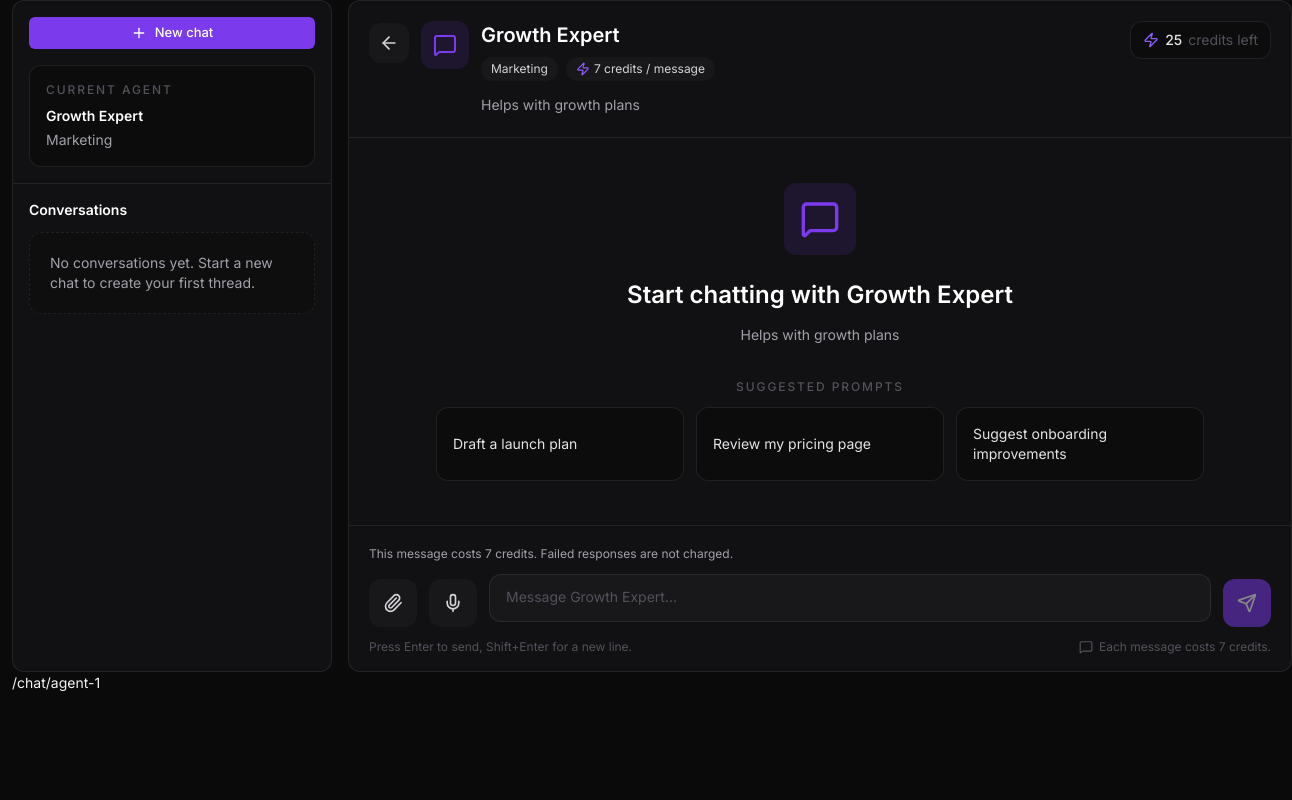
Test: ChatPage › distinguishes a billing inactive 402 from insufficient credits and preserves the draft
The width and height of the screenshot is (1292, 800).
Type "Help me plan a launch" into the text box. click: (850, 598)
box: [489,574,1211,622]
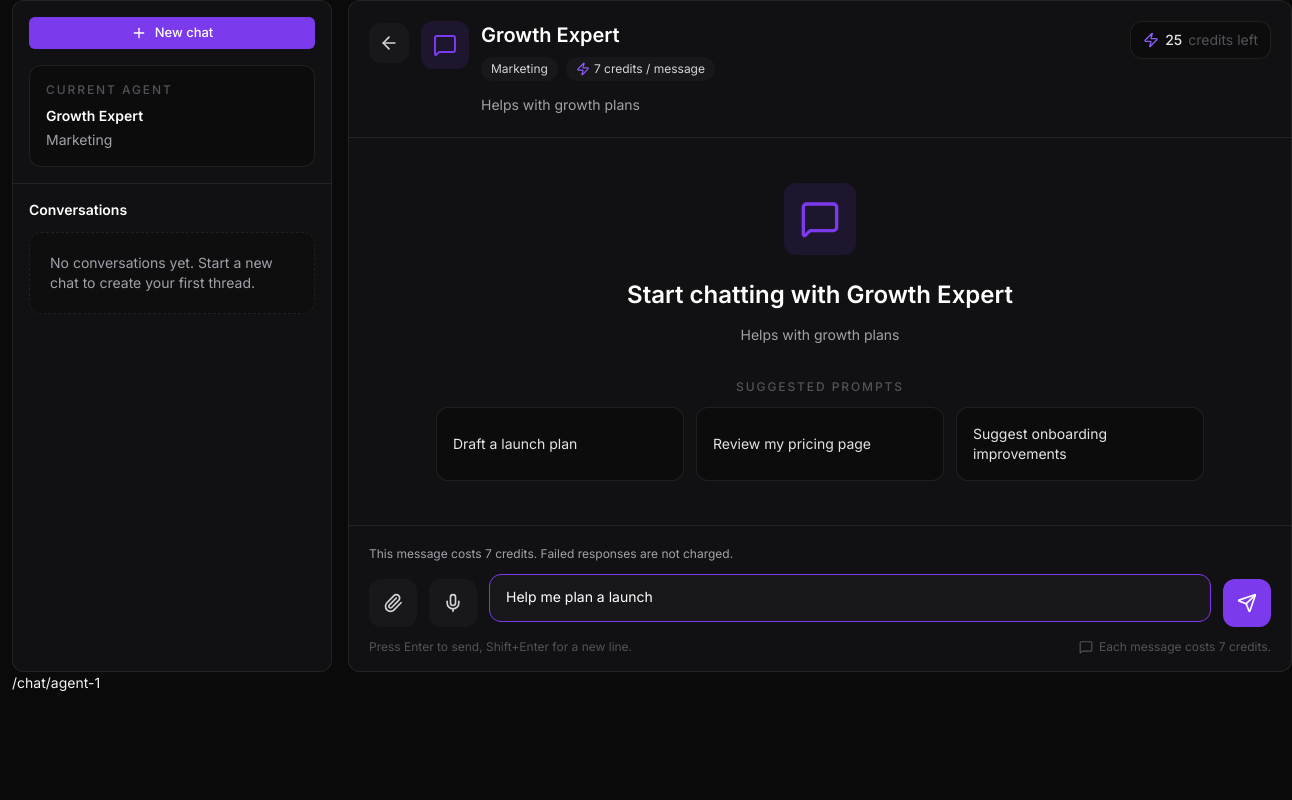
Press Enter
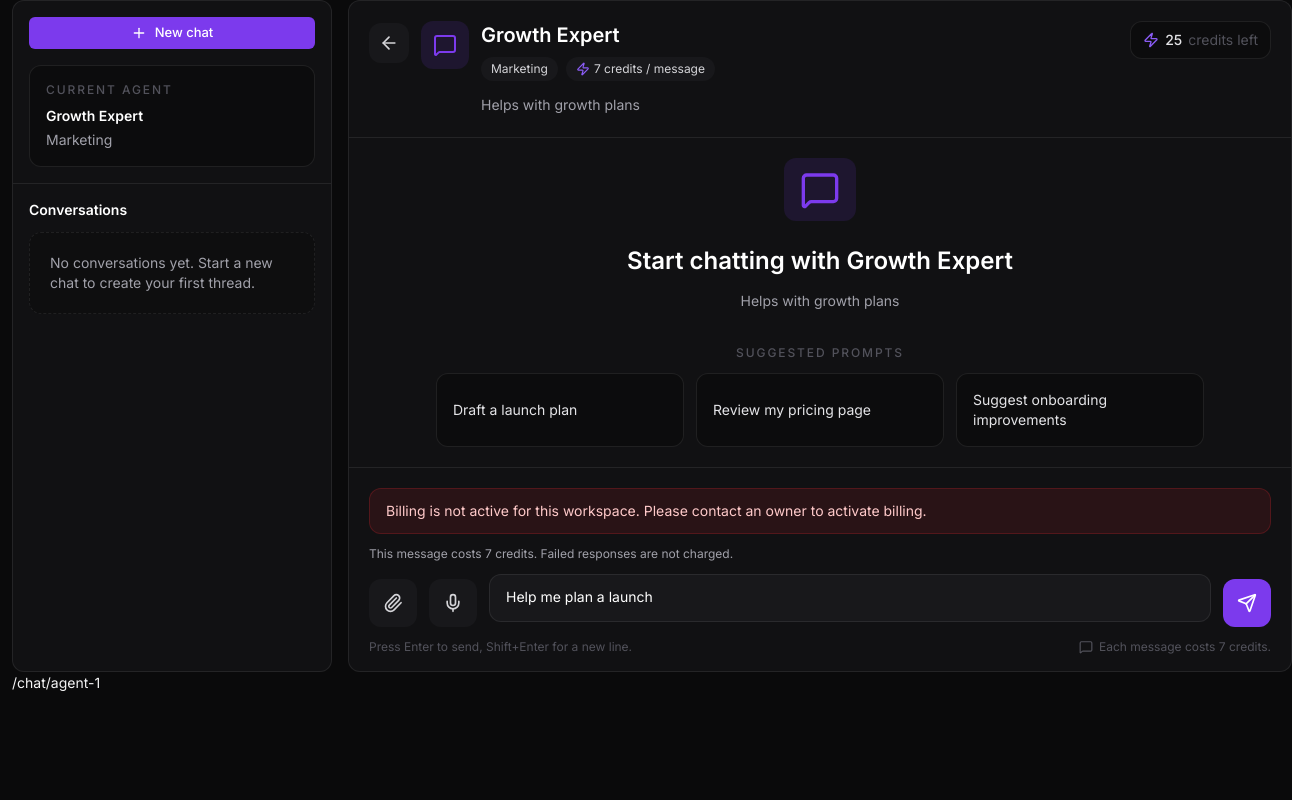
Expected: the text with test id "location-display" reads "/chat/agent-1", [12,674,100,691]
Now the text box holds "Help me plan a launch", box [489,574,1211,622]
Now the text "Billing is not active for this workspace. Please contact an owner to activate billing." is shown, box [386,502,927,519]
